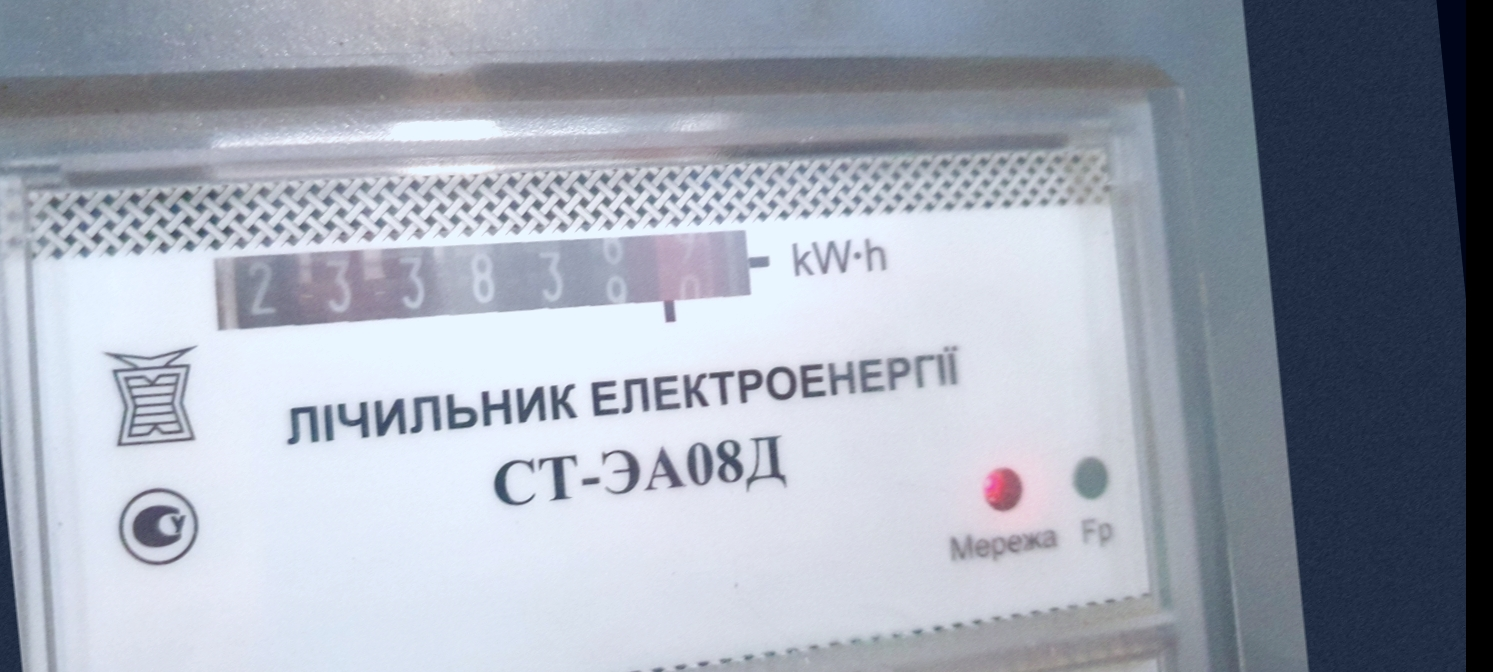0: (676, 270, 705, 306)
2: (241, 255, 285, 319)
3: (391, 248, 433, 315), (323, 254, 356, 315), (536, 244, 570, 303)
8: (464, 246, 503, 307), (600, 232, 629, 266)
9: (670, 226, 704, 267), (602, 270, 634, 308)
screen: (181, 181, 787, 394)
